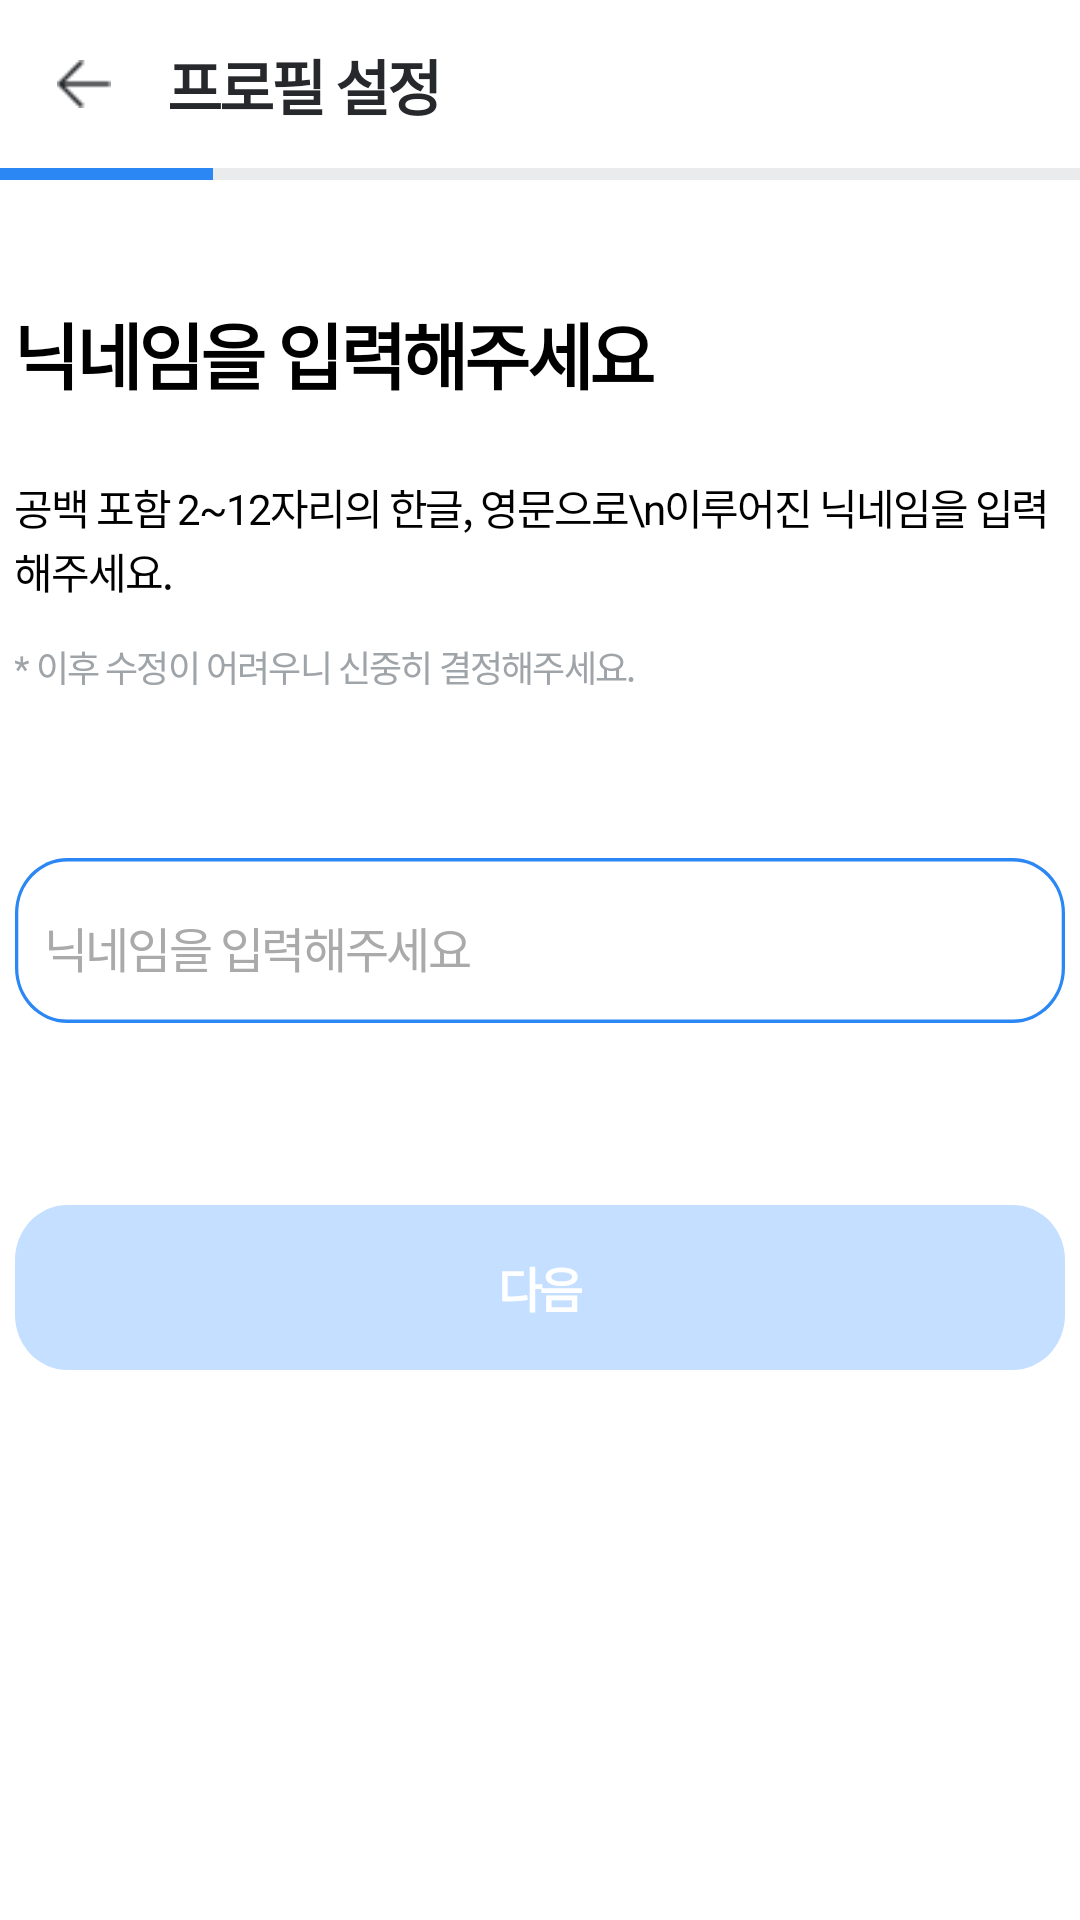

Screen size 1080w x 1920h. Icon name, then its box in pixels as (x1, y1, x2, y2):
backbtn: (57, 60, 111, 108)
